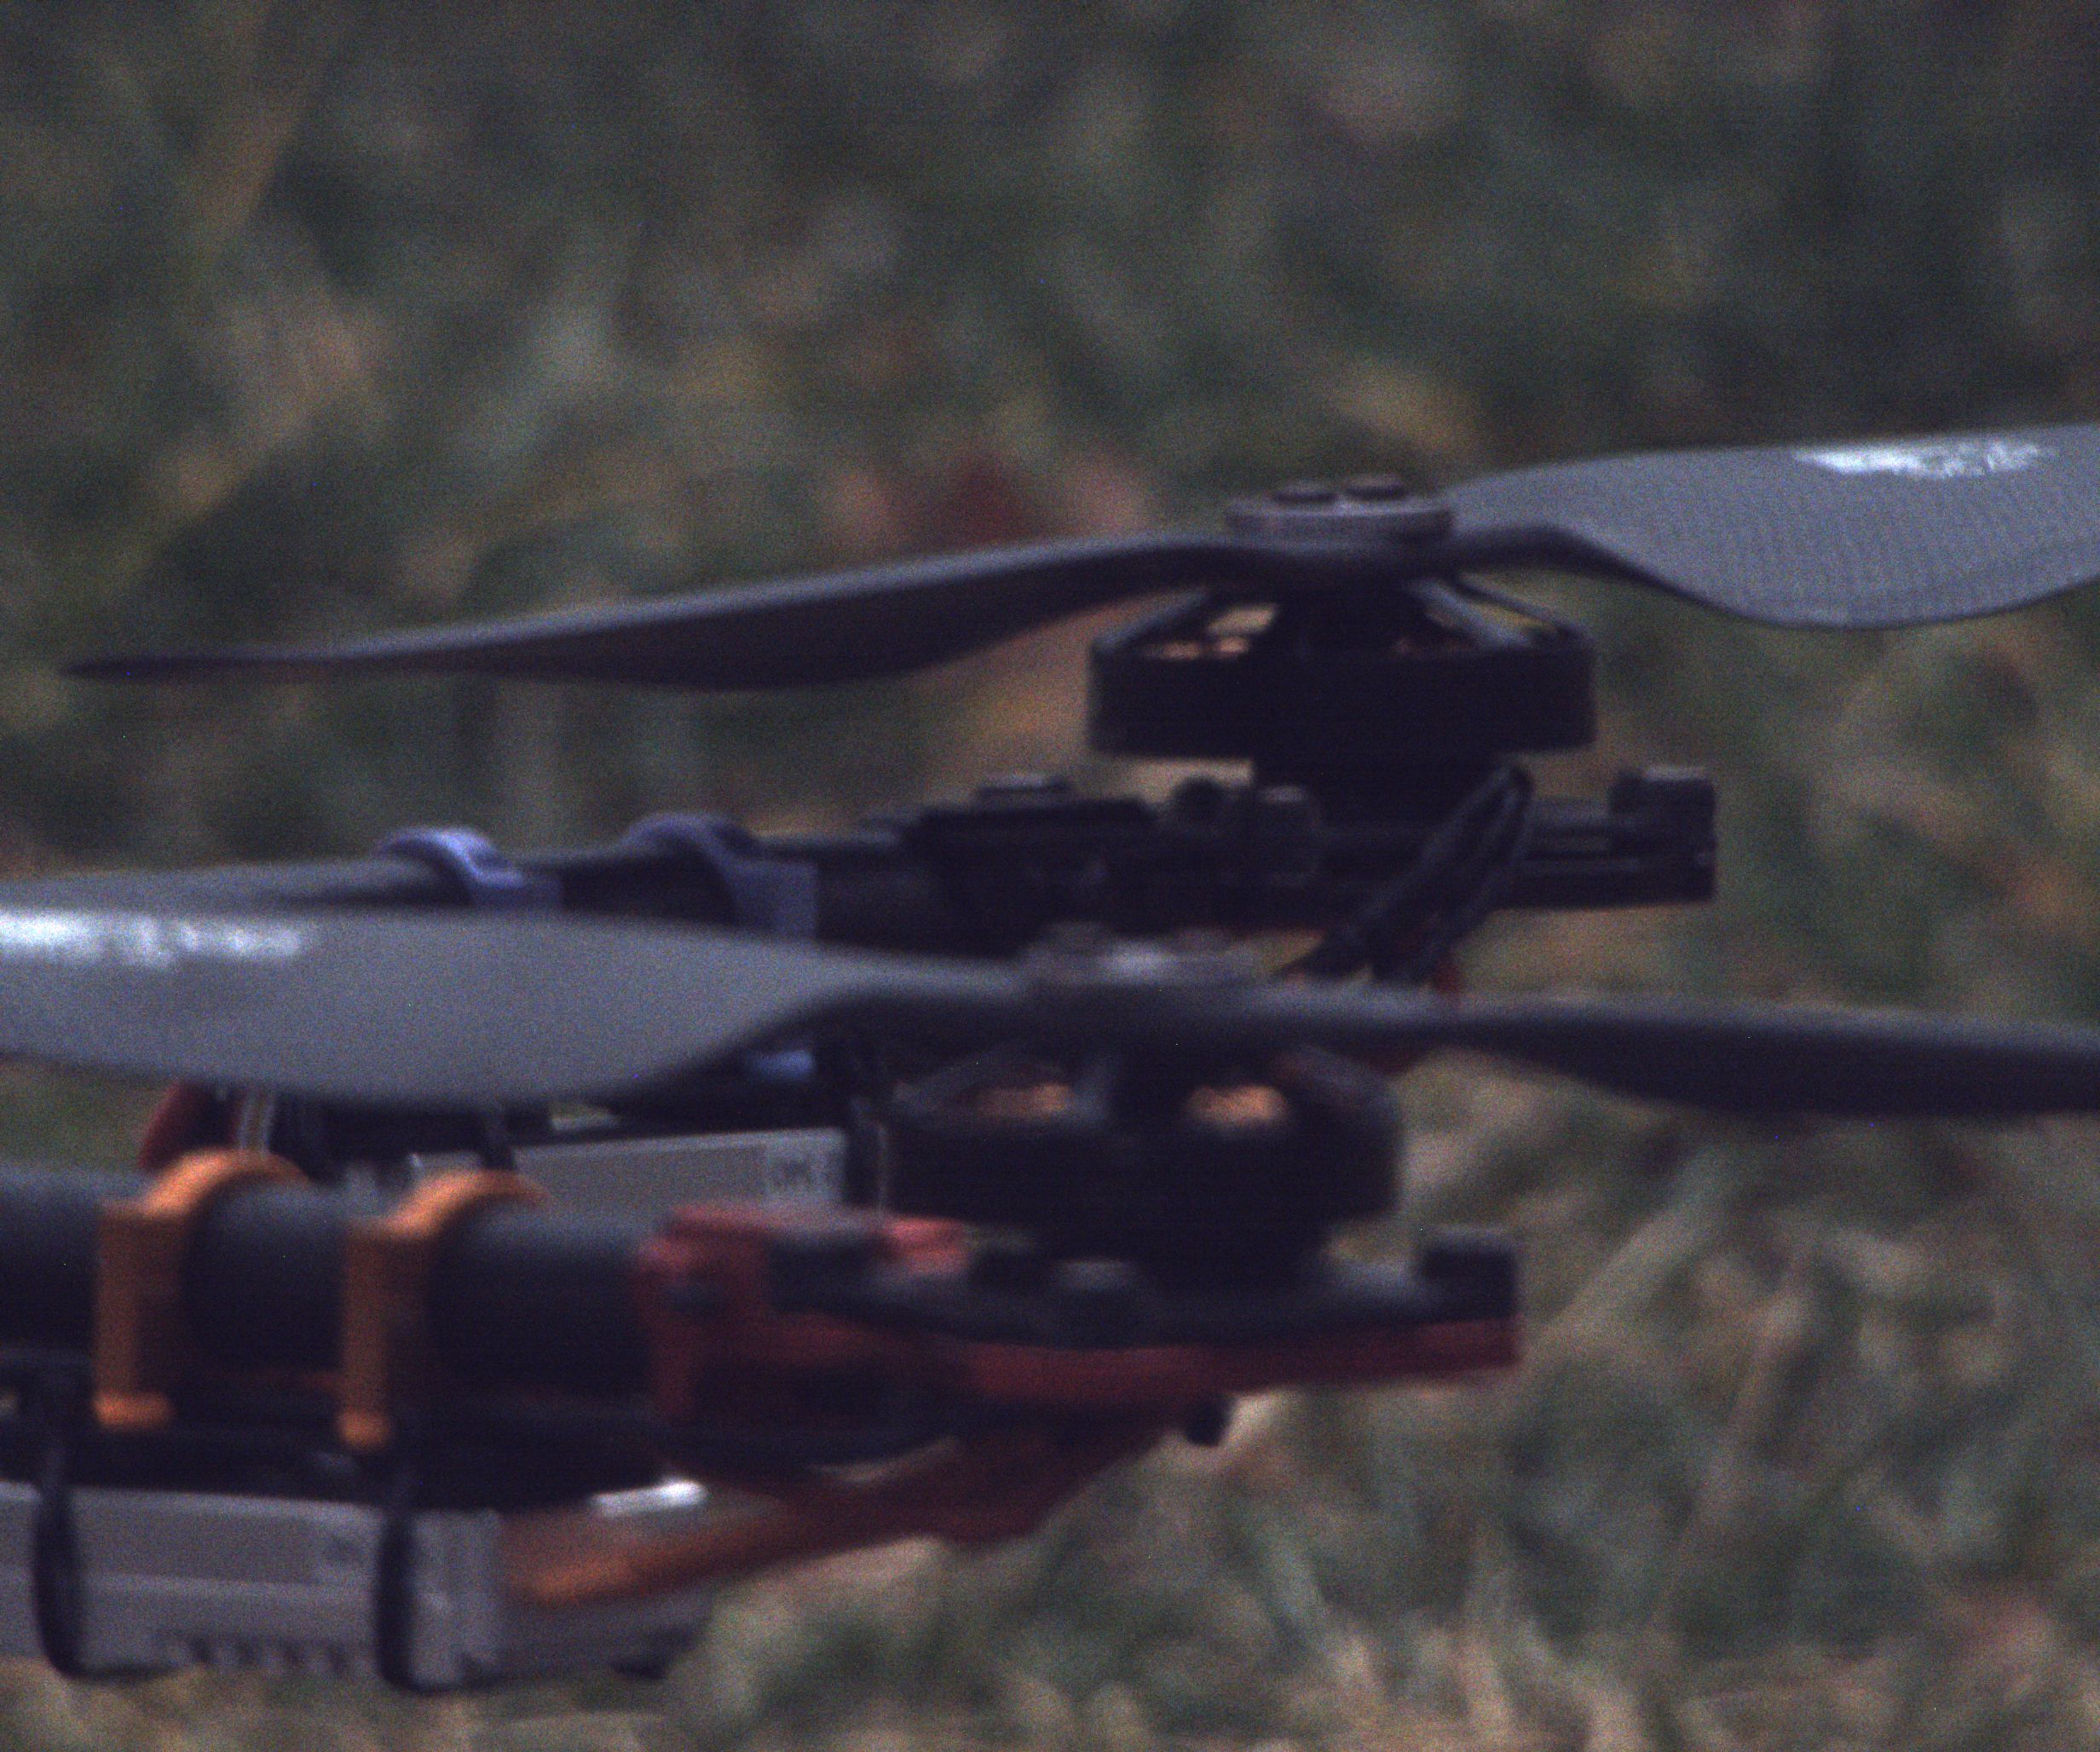Drohne: (2, 368, 2100, 1721)
